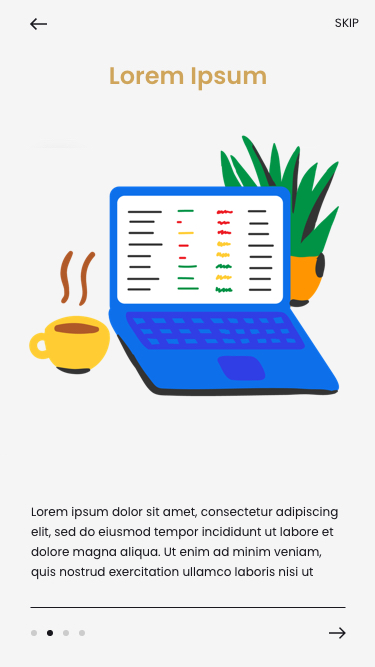Icon: (30, 18, 48, 31), (329, 626, 347, 639)
Image: (29, 135, 340, 397)
PageIndicator: (31, 629, 87, 637)
Text: (31, 506, 339, 580), (110, 67, 267, 92), (335, 18, 360, 29)
